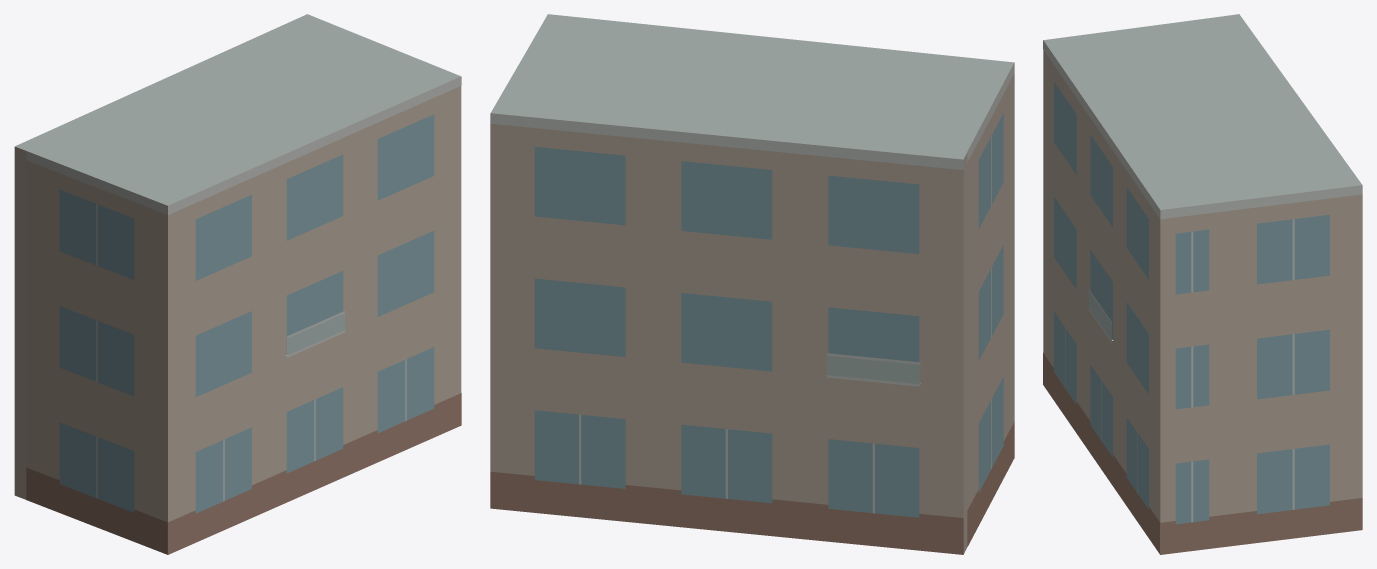
The model's file is survey-upis-32624357.glb.
The picture shows the model from 3 angles, left to right: view 1: azimuth 30°, elevation 25°; view 2: azimuth 150°, elevation 25°; view 3: azimuth 270°, elevation 25°; orthographic projection. The views are drawn at different scales.
Parts seen in each view (by area): view 1: survey-upis-32624357.tmp; view 2: survey-upis-32624357.tmp; view 3: survey-upis-32624357.tmp.
Part boxes in pixels (x1,y1,x2,y2): survey-upis-32624357.tmp: [14, 14, 461, 554]; survey-upis-32624357.tmp: [490, 14, 1014, 554]; survey-upis-32624357.tmp: [1043, 14, 1362, 554].
Size of the model in its own units: 11.17 by 9.15 by 7.69.
